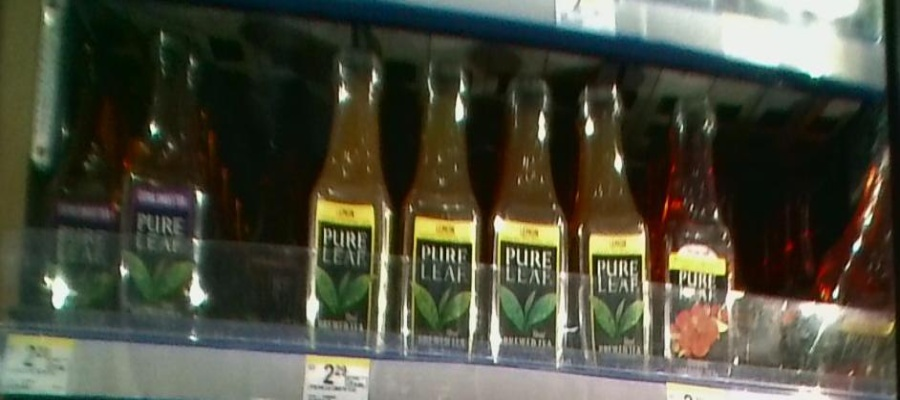bottle: (304, 35, 395, 355), (120, 27, 213, 326), (400, 51, 485, 361), (486, 69, 571, 369), (573, 80, 657, 381), (659, 78, 736, 388), (34, 32, 117, 319), (835, 144, 892, 357)
